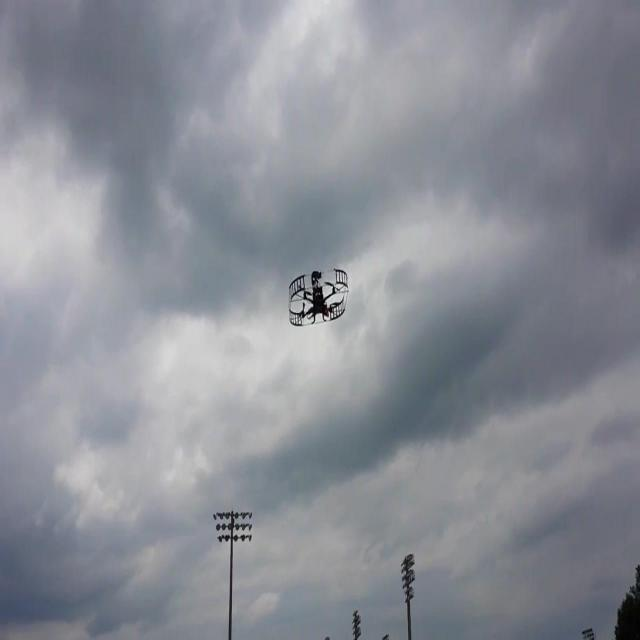UAV: (289, 268, 349, 326)
